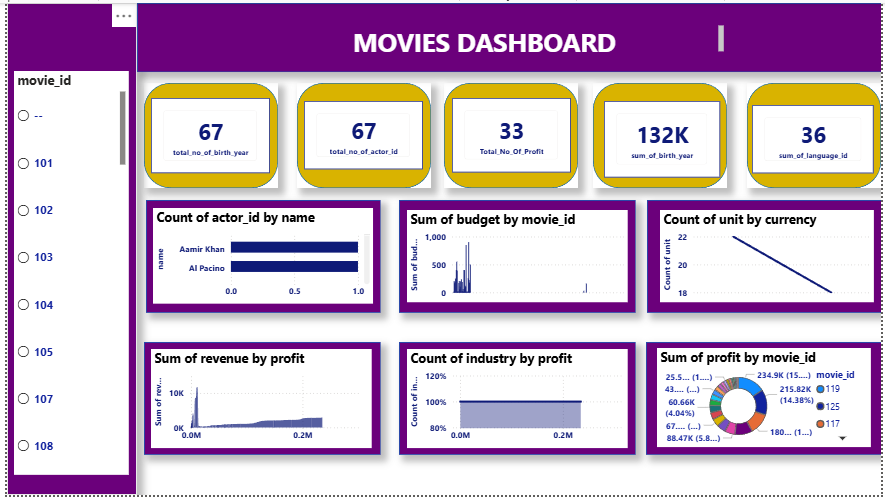

Layout of this report page (visuals, bound fields, positions):
{"tool":"powerbi","page":{"name":"dashboard","canvas":[1280,720],"ordinal":0},"visuals":[{"type":"shape","box":[0,0,189.7,720.5],"z":0},{"type":"shape","box":[190.2,0,1090.2,101],"z":1000},{"type":"shape","box":[200,116.7,196.2,153.8],"z":2000},{"type":"shape","box":[424.4,116.7,196.2,153.8],"z":3000},{"type":"shape","box":[639.7,116.7,196.2,153.8],"z":4000},{"type":"shape","box":[857.7,116.7,196.2,153.8],"z":5000},{"type":"shape","box":[1083.3,116.7,196.2,153.8],"z":6000},{"type":"shape","box":[202.9,288.4,343.5,165.2],"z":7000},{"type":"shape","box":[573.9,288.4,346.4,165.2],"z":8000},{"type":"shape","box":[936.2,288.4,343.5,165.2],"z":9000},{"type":"shape","box":[200,495.7,346.4,165.2],"z":10000},{"type":"shape","box":[573.9,495.7,346.4,165.2],"z":11000},{"type":"shape","box":[935.1,496.1,345.4,165.4],"z":12000},{"type":"cardVisual","fields":{"Data":["actors.total_no_of_actor_id"]},"box":[434.8,143.5,173.9,100],"z":13000},{"type":"cardVisual","fields":{"Data":["actors.total_no_of_birth_year"]},"box":[210.1,139.1,173.9,110.1],"z":14000},{"type":"cardVisual","fields":{"Data":["actors.Total_No_Of_Profit"]},"box":[650.7,139.1,173.9,108.7],"z":15000},{"type":"cardVisual","fields":{"Data":["actors.sum_of_birth_year"]},"box":[873.9,143.5,169.6,111.6],"z":16000},{"type":"cardVisual","fields":{"Data":["actors.sum_of_language_id"]},"box":[1089.9,149.3,178.3,100],"z":17000},{"type":"barChart","fields":{"Y":["CountNonNull(actors.actor_id)"],"Category":["actors.name"]},"box":[213.7,300,322,140.5],"z":18000},{"type":"columnChart","fields":{"Category":["financials.movie_id"],"Y":["Sum(financials.budget)"]},"box":[585.5,302.9,323.2,134.8],"z":19000},{"type":"lineChart","fields":{"Category":["financials.currency"],"Y":["CountNonNull(financials.unit)"]},"box":[955.1,302.9,313,134.8],"z":20000},{"type":"ribbonChart","fields":{"Category":["financials.profit"],"Y":["Sum(financials.revenue)"]},"box":[210.1,505.8,323.2,144.9],"z":21000},{"type":"hundredPercentStackedAreaChart","fields":{"Y":["CountNonNull(movies.industry)"],"Category":["financials.profit"]},"box":[585.5,505.8,323.2,144.9],"z":22000},{"type":"listSlicer","fields":{"Values":["financials.movie_id"]},"box":[10.2,99.5,168.3,591.2],"z":24000},{"type":"donutChart","fields":{"Category":["financials.movie_id"],"Y":["Sum(financials.profit)"]},"box":[951.2,504.9,313.2,144.9],"z":25000},{"type":"textbox","box":[424.4,26.3,793.2,73.2],"z":25001}]}

Visuals, with their boxes in screenshot pixels (x1, y1, x2, y2):
shape: <region>5, 0, 134, 491</region>
shape: <region>134, 0, 878, 69</region>
shape: <region>141, 80, 275, 184</region>
shape: <region>294, 80, 428, 184</region>
shape: <region>441, 80, 575, 184</region>
shape: <region>589, 80, 723, 184</region>
shape: <region>743, 80, 877, 184</region>
shape: <region>143, 197, 377, 309</region>
shape: <region>396, 197, 632, 309</region>
shape: <region>643, 197, 877, 309</region>
shape: <region>141, 338, 377, 451</region>
shape: <region>396, 338, 632, 451</region>
shape: <region>642, 338, 878, 451</region>
cardVisual - actors.total_no_of_actor_id: <region>301, 98, 420, 166</region>
cardVisual - actors.total_no_of_birth_year: <region>148, 95, 266, 170</region>
cardVisual - actors.Total_No_Of_Profit: <region>448, 95, 567, 169</region>
cardVisual - actors.sum_of_birth_year: <region>600, 98, 716, 174</region>
cardVisual - actors.sum_of_language_id: <region>748, 102, 869, 170</region>
barChart - CountNonNull(actors.actor_id) x actors.name: <region>150, 205, 370, 300</region>
columnChart - financials.movie_id x Sum(financials.budget): <region>404, 207, 624, 298</region>
lineChart - financials.currency x CountNonNull(financials.unit): <region>656, 207, 869, 298</region>
ribbonChart - financials.profit x Sum(financials.revenue): <region>148, 345, 368, 444</region>
hundredPercentStackedAreaChart - CountNonNull(movies.industry) x financials.profit: <region>404, 345, 624, 444</region>
listSlicer - financials.movie_id: <region>12, 68, 126, 471</region>
donutChart - financials.movie_id x Sum(financials.profit): <region>653, 344, 867, 443</region>
textbox: <region>294, 18, 835, 68</region>
